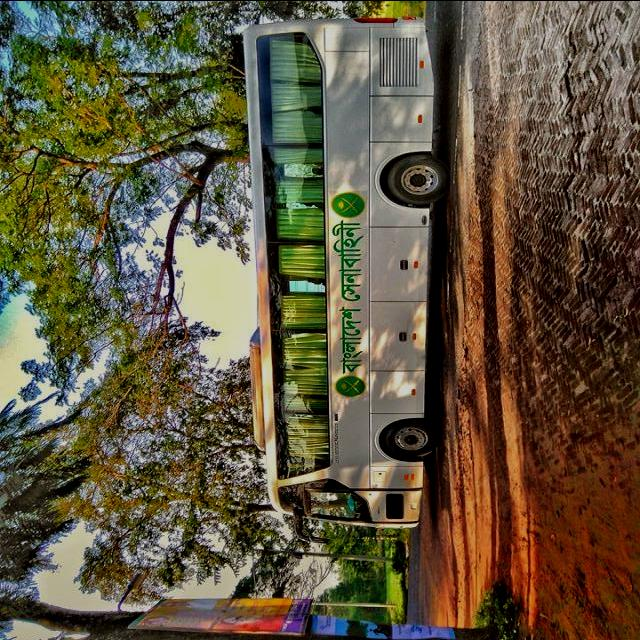bus: (243, 13, 454, 546)
